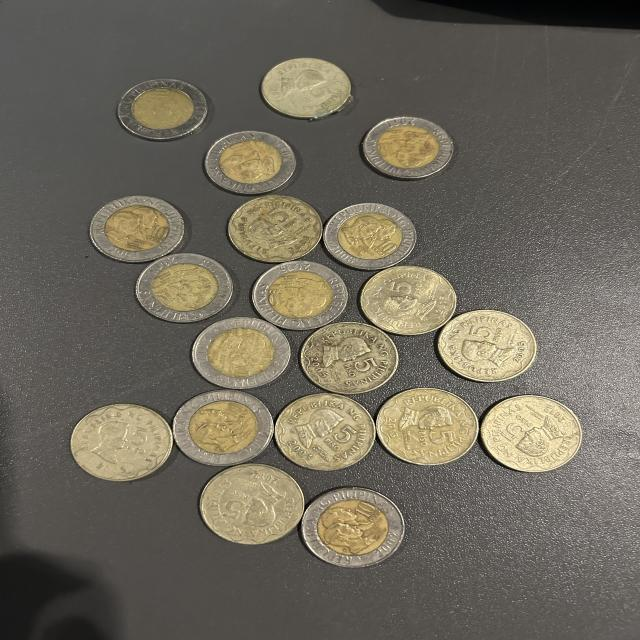10_Old_Front: (303, 487, 407, 566), (91, 197, 183, 261), (206, 130, 295, 196), (324, 202, 414, 266)
5_Old_Front: (269, 394, 374, 471), (438, 310, 534, 382), (301, 324, 397, 390)
